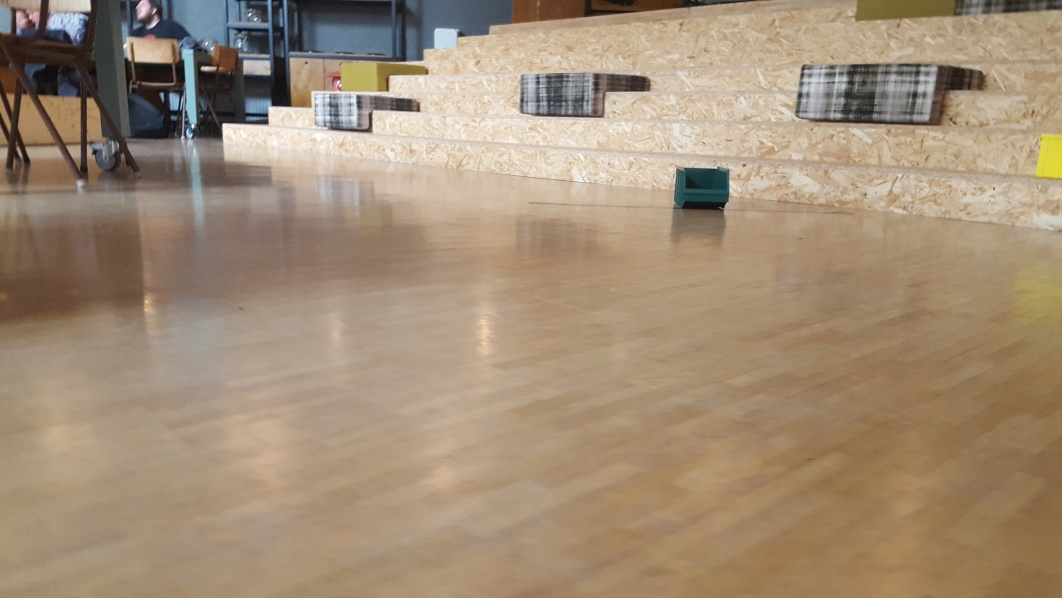tray: (672, 163, 732, 210)
